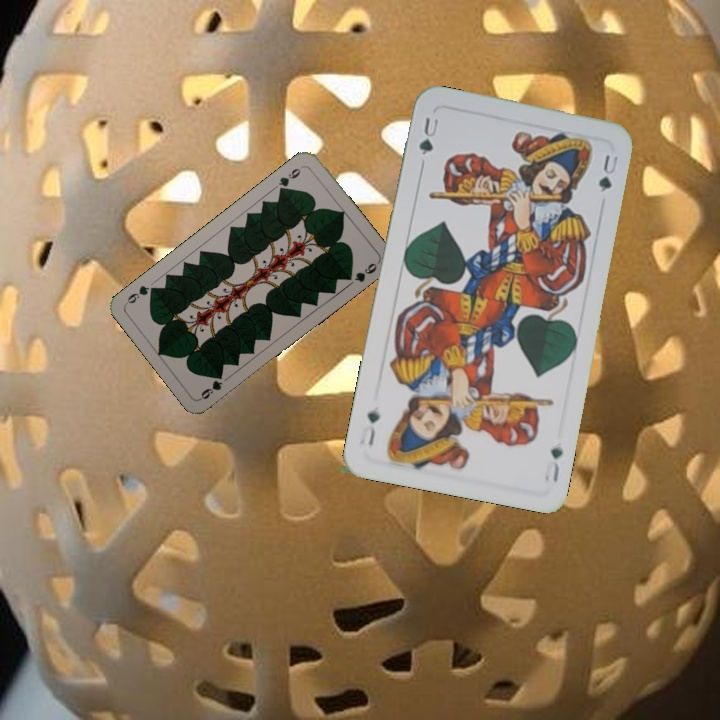G9: (274, 164, 304, 195), (196, 370, 225, 402)
GU: (415, 113, 442, 158), (540, 442, 566, 486)
